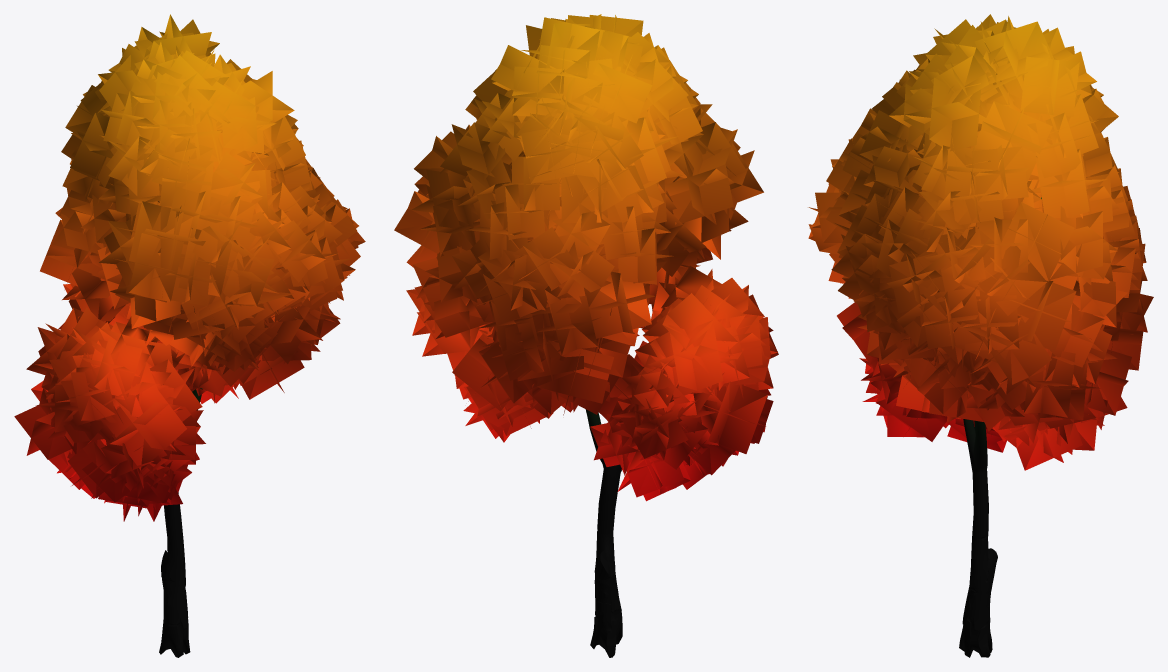
Rendered from TGV_Birch_Tree_04A.fbx.
3 renders of one model, left to right at view 1: azimuth 30°, elevation 25°; view 2: azimuth 150°, elevation 25°; view 3: azimuth 270°, elevation 25°, orthographic. The views are drawn at different scales.
Parts seen in each view (by area): view 1: TGV_Birch_Tree_04A_LOD0; view 2: TGV_Birch_Tree_04A_LOD0; view 3: TGV_Birch_Tree_04A_LOD0.
Boxes of the visible parts, x1,y1,x2,y2 form: TGV_Birch_Tree_04A_LOD0: [14, 14, 365, 657]; TGV_Birch_Tree_04A_LOD0: [394, 14, 778, 657]; TGV_Birch_Tree_04A_LOD0: [808, 14, 1153, 657].
Size of the model in its own units: 777 by 1423 by 690.
